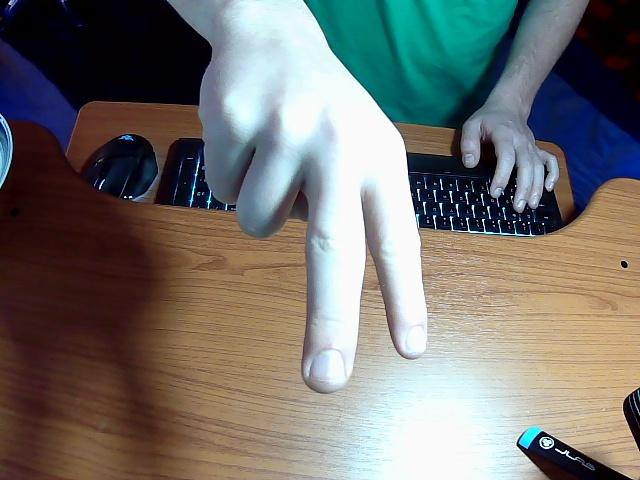scissors: (171, 0, 584, 392)
